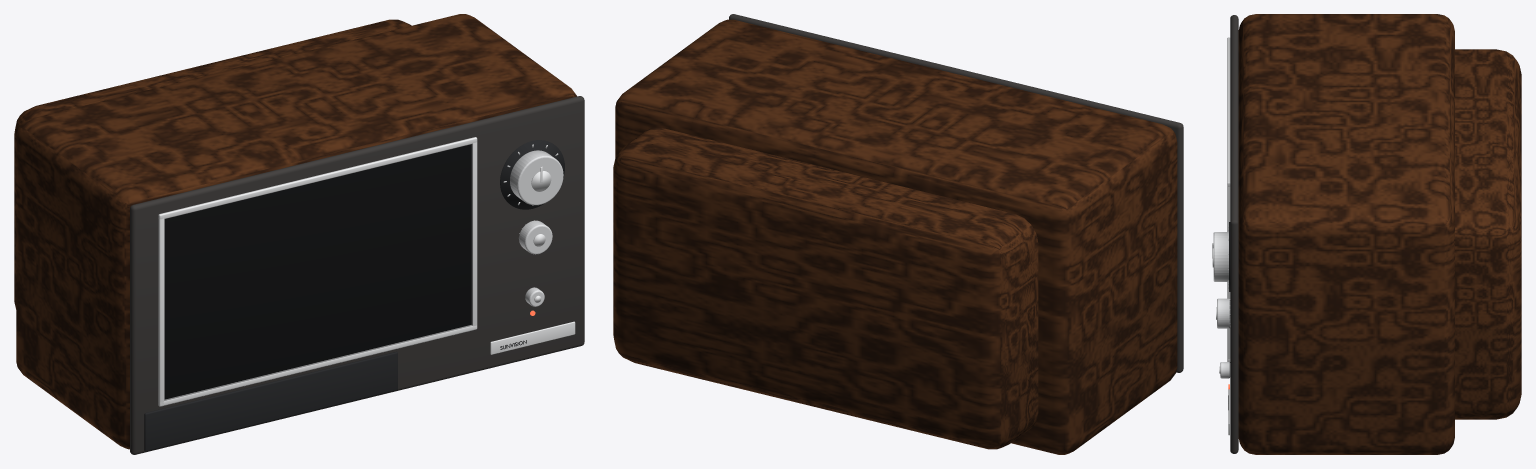
The model's file is crt-tv-v1-lite.glb.
The picture shows the model from 3 angles, left to right: view 1: azimuth 30°, elevation 25°; view 2: azimuth 150°, elevation 25°; view 3: azimuth 270°, elevation 25°; orthographic projection. The views are drawn at different scales.
Parts seen in each view (by area): view 1: CABINET, SCREEN_WELL, FRONT_PANEL, SPEAKER_GRILLE, BACK_TAPER, TV_CH_KNOB, TRIM_T, TRIM_B, CH_DIAL_PLATE, TRIM_L, TRIM_R, BRAND_PLATE (+1 smaller); view 2: BACK_TAPER, CABINET, FRONT_PANEL; view 3: CABINET, BACK_TAPER, FRONT_PANEL, TV_CH_KNOB, TRIM_T, TV_VOL_KNOB, TRIM_R.
Part boxes in pixels (x1=…): CABINET: x1=16, y1=14, x2=576, y2=449; SCREEN_WELL: x1=164, y1=144, x2=471, y2=399; FRONT_PANEL: x1=130, y1=96, x2=584, y2=454; SPEAKER_GRILLE: x1=144, y1=351, x2=397, y2=451; BACK_TAPER: x1=14, y1=19, x2=411, y2=309; TV_CH_KNOB: x1=510, y1=150, x2=563, y2=205; TRIM_T: x1=158, y1=137, x2=477, y2=219; TRIM_B: x1=158, y1=325, x2=476, y2=406; CH_DIAL_PLATE: x1=500, y1=140, x2=564, y2=209; TRIM_L: x1=158, y1=214, x2=164, y2=406; TRIM_R: x1=471, y1=140, x2=477, y2=329; BRAND_PLATE: x1=490, y1=321, x2=575, y2=354; BACK_TAPER: x1=613, y1=127, x2=1038, y2=449; CABINET: x1=615, y1=19, x2=1177, y2=454; FRONT_PANEL: x1=729, y1=14, x2=1183, y2=372; CABINET: x1=1238, y1=14, x2=1454, y2=454; BACK_TAPER: x1=1455, y1=49, x2=1521, y2=419; FRONT_PANEL: x1=1230, y1=15, x2=1238, y2=453; TV_CH_KNOB: x1=1212, y1=232, x2=1228, y2=281; TRIM_T: x1=1227, y1=37, x2=1230, y2=186; TV_VOL_KNOB: x1=1216, y1=298, x2=1230, y2=328; TRIM_R: x1=1227, y1=183, x2=1230, y2=361.
Bounding box in the file's own units: 0.6 × 0.33 × 0.3714.
7 materials, 1 textured.
